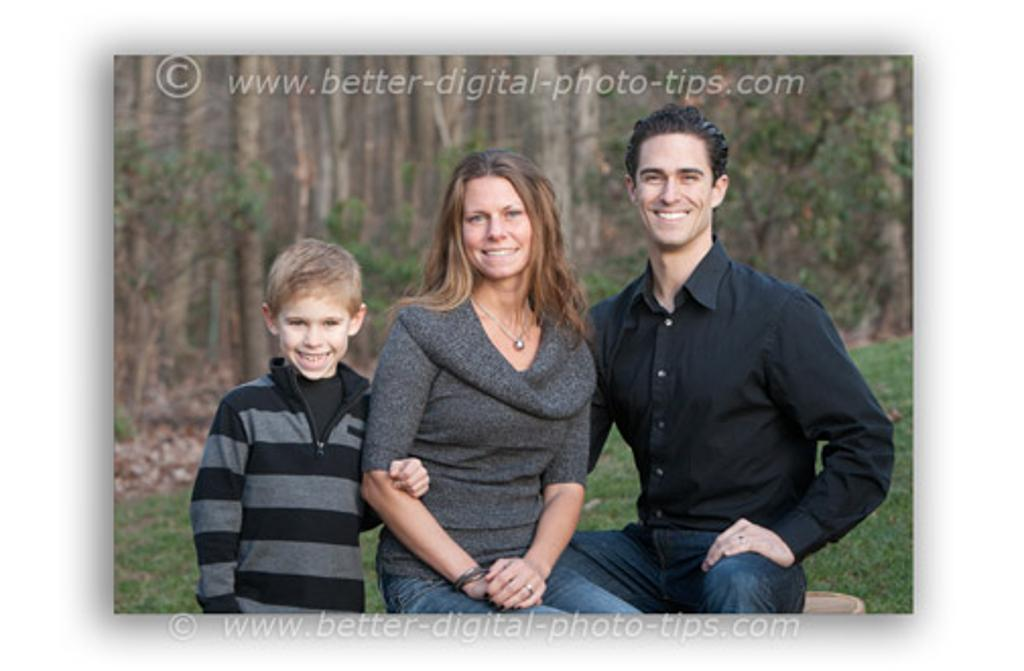face: (638, 136, 714, 240), (458, 176, 532, 278), (278, 278, 352, 378)
